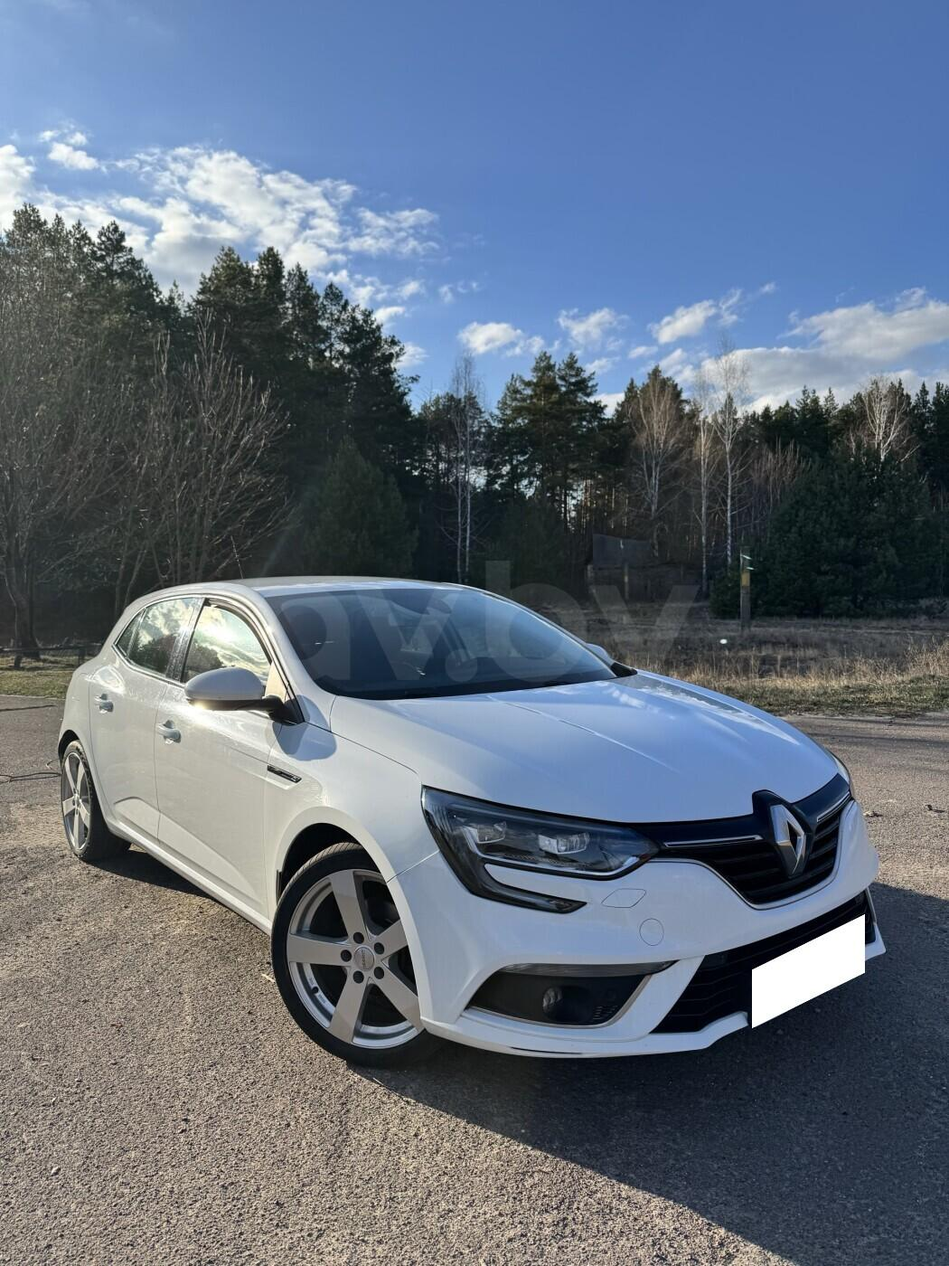Megane_2016-2020: (49, 564, 904, 1058)
